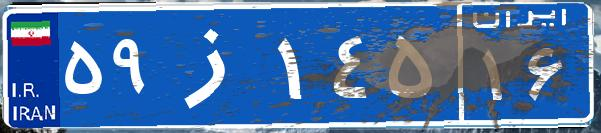1: (273, 28, 330, 110), (475, 38, 525, 113)
4: (330, 28, 385, 110)
5: (385, 28, 445, 110), (57, 26, 110, 107)
6: (525, 38, 570, 115)
9: (110, 28, 158, 105)
ز: (158, 15, 273, 115)
